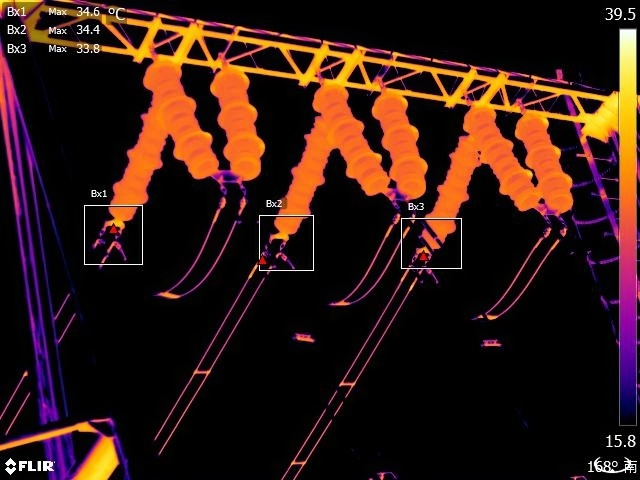clamp: (533, 217, 576, 246), (88, 230, 131, 256), (213, 189, 255, 214), (405, 255, 438, 283), (385, 207, 422, 231), (258, 247, 293, 268)
insulator: (136, 47, 218, 177), (315, 72, 392, 205), (458, 99, 538, 214), (267, 113, 336, 239), (370, 71, 431, 204), (421, 118, 477, 251), (514, 105, 579, 214), (205, 58, 266, 174), (111, 94, 163, 226)
